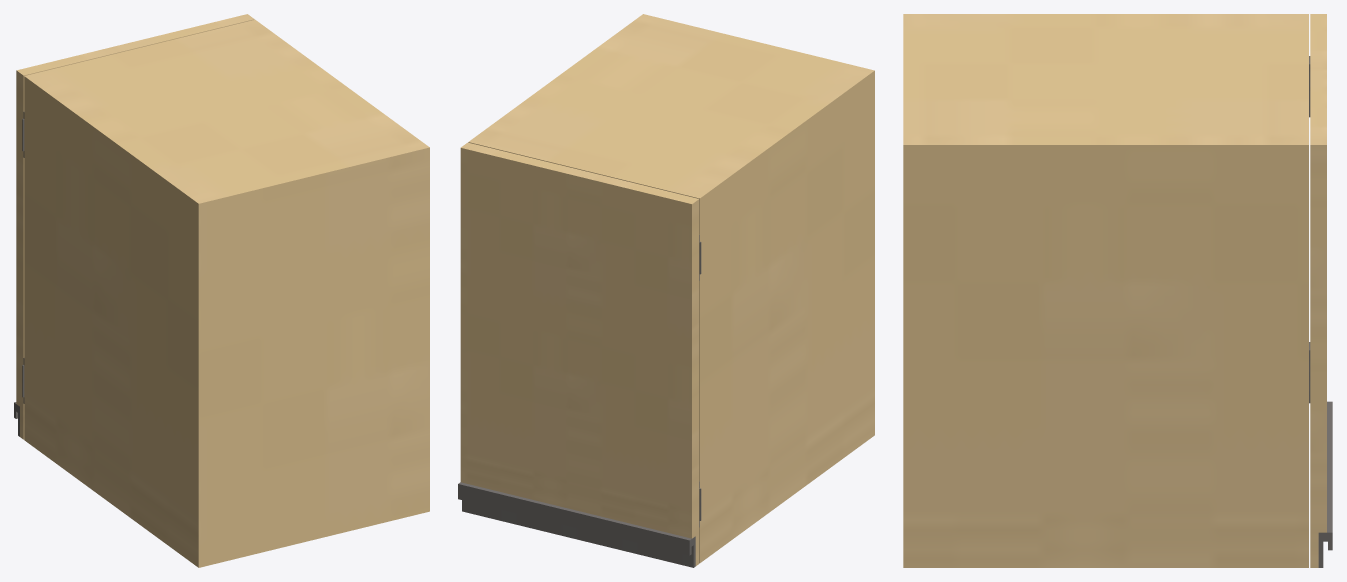
File: CabinetG05.glb
3 renders of one model, left to right at view 1: azimuth 30°, elevation 25°; view 2: azimuth 150°, elevation 25°; view 3: azimuth 270°, elevation 25°, orthographic. The views are drawn at different scales.
Parts seen in each view (by area): view 1: CabinetG05_model, CabinetG05Door; view 2: CabinetG05_model, CabinetG05Door; view 3: CabinetG05_model, CabinetG05Door.
Boxes of the visible parts, x1,y1,x2,y2 form: CabinetG05_model: (22, 19, 429, 567); CabinetG05Door: (14, 14, 254, 439); CabinetG05_model: (468, 14, 874, 563); CabinetG05Door: (458, 142, 701, 567); CabinetG05_model: (903, 14, 1309, 567); CabinetG05Door: (1309, 14, 1332, 567).
Size of the model in its own units: 0.9256 by 1.39 by 1.27.
1 material, 1 textured.
